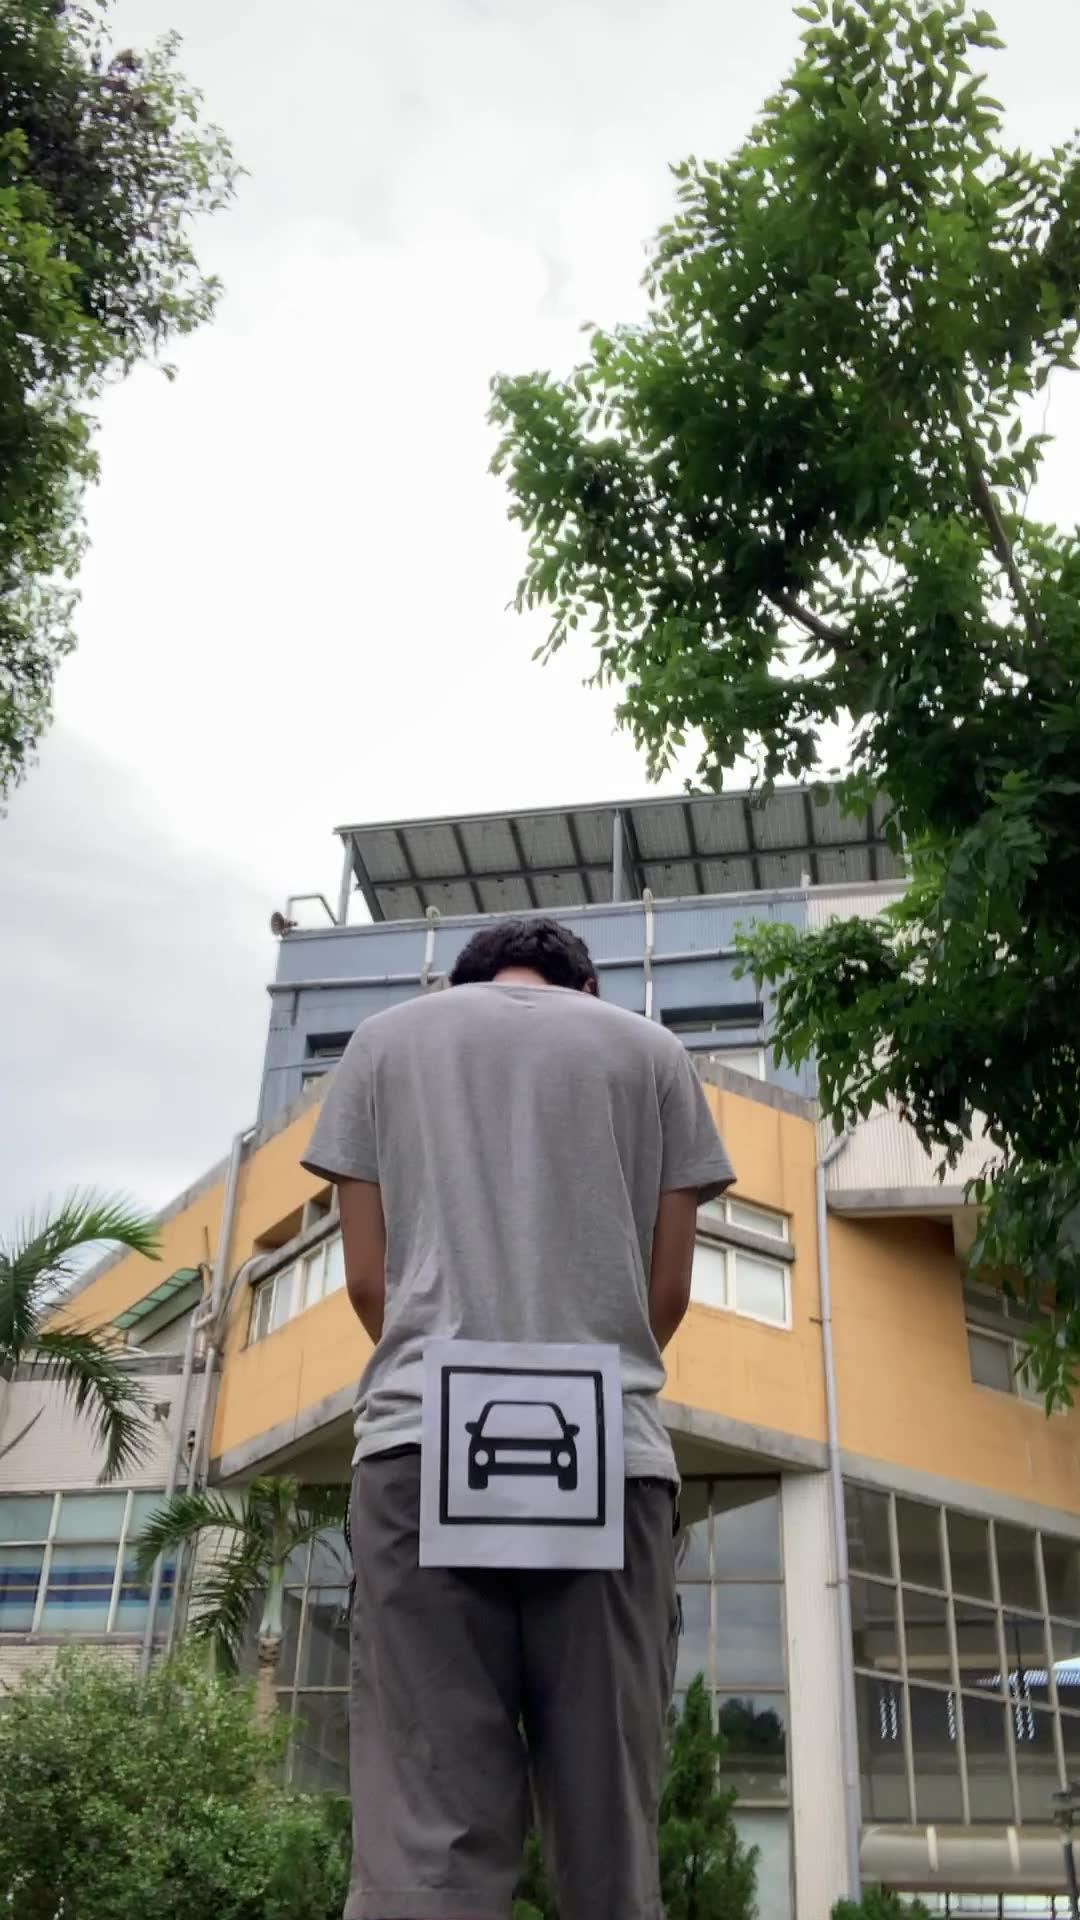car_img: (439, 1364, 605, 1527)
